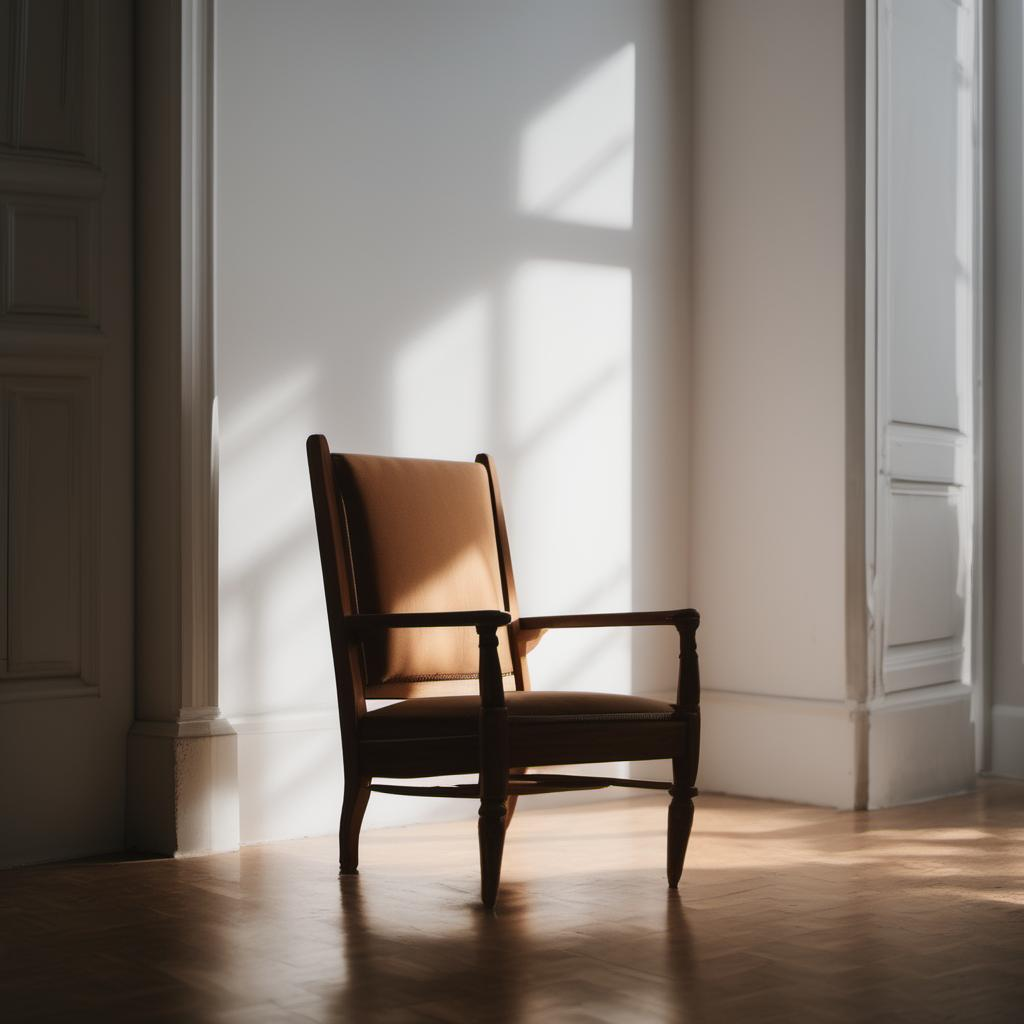chair_new: (305, 437, 706, 911)
